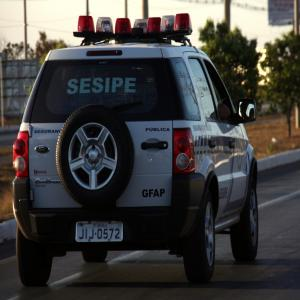Vehicle-registration-plate: (66, 216, 133, 260)
